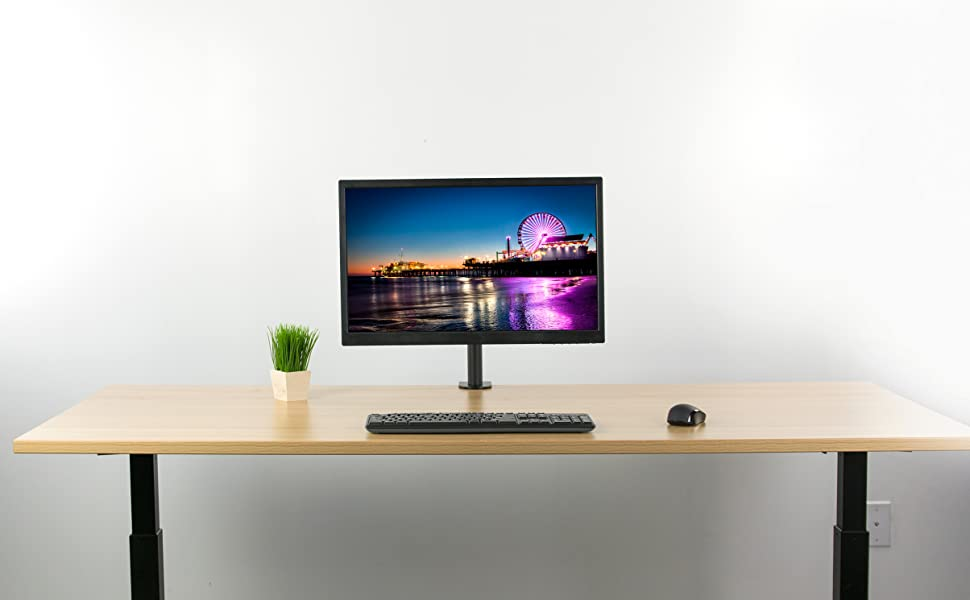keyboard: (358, 403, 603, 437)
monitor: (328, 166, 620, 400)
mouse: (658, 395, 718, 433)
